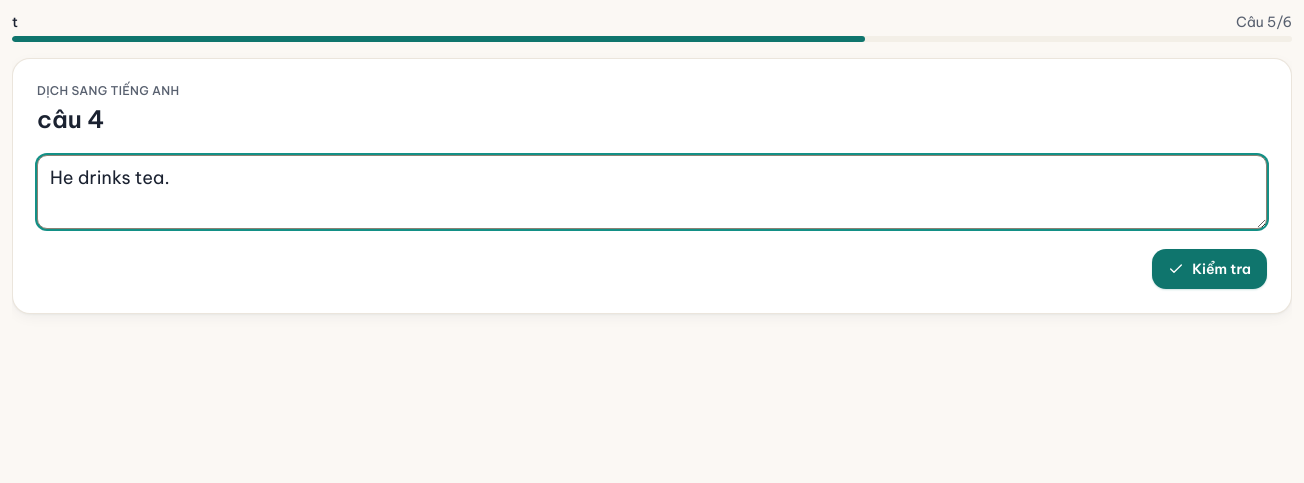
Test case: WriteRunner — redo only the wrong sentences › at ≥ 50 % passes without redoing, but a passive sentence still wrong comes back
Earlier steps of the test are not shown.
Later steps or results of the test are not shown.
Click the button "Kiểm tra". click: (1210, 269)
box: [1152,249,1267,289]
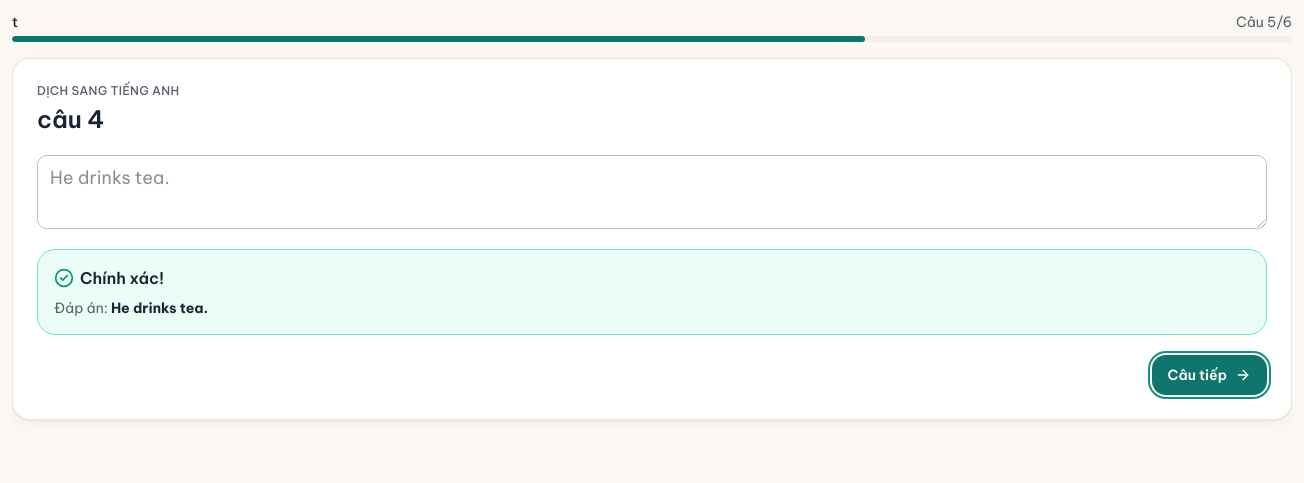
Click the button "Câu tiếp". click: (1209, 375)
box: [1152,355,1267,395]
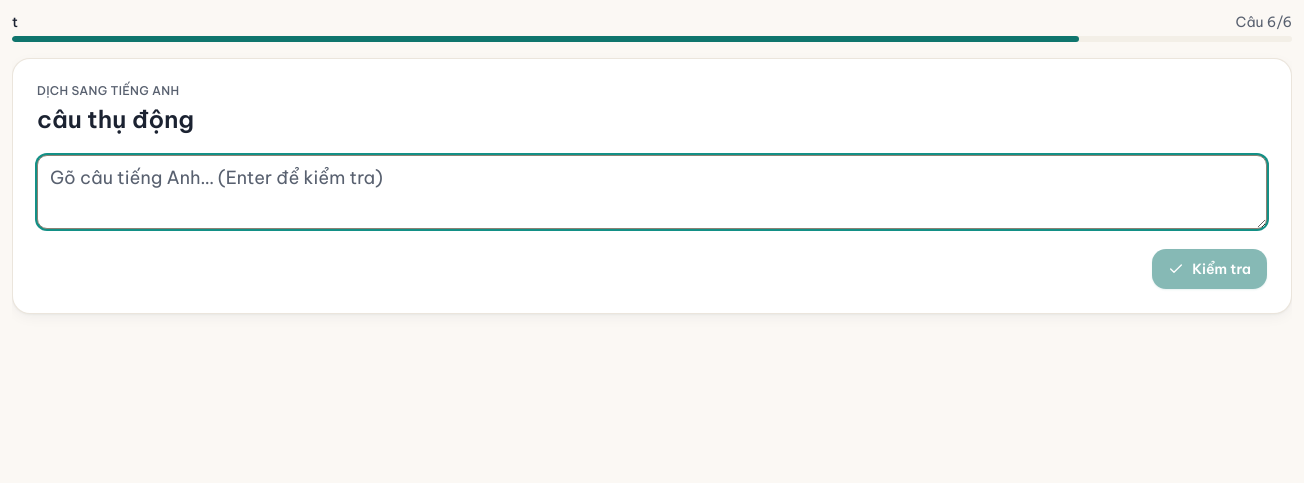
Type "nope" into the text box named "Câu của bạn". click: (652, 192)
box: [37,155,1267,229]
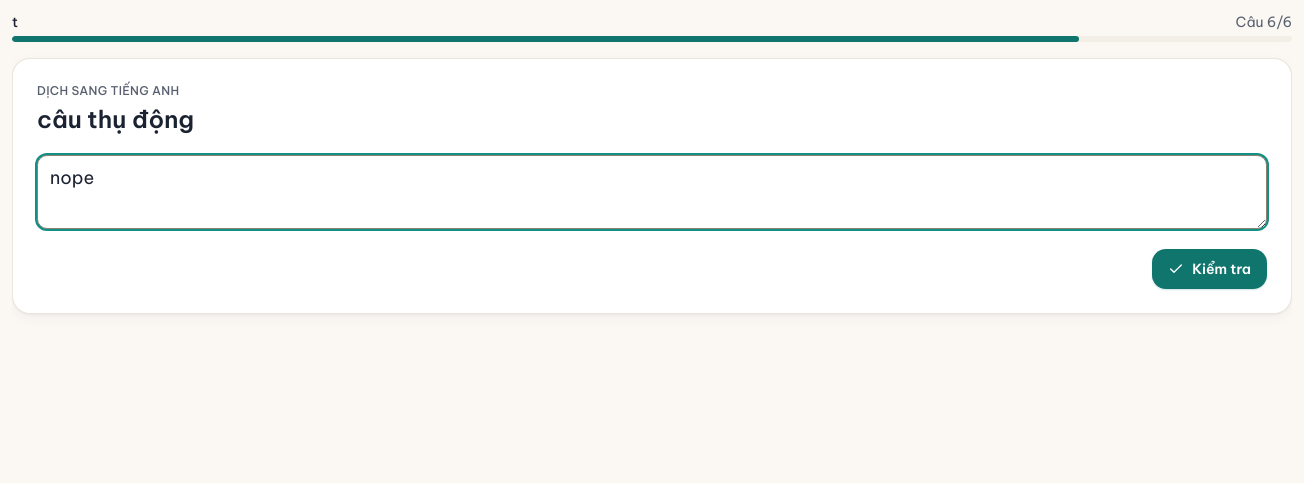
Click the button "Kiểm tra". click: (1210, 269)
box: [1152,249,1267,289]
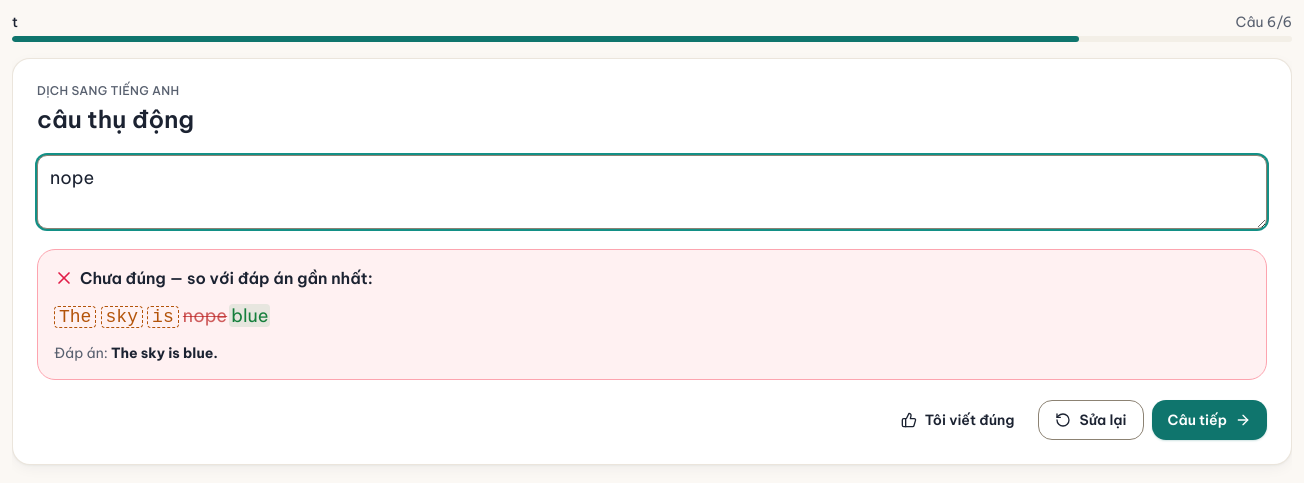
Click the button "Câu tiếp". click: (1209, 420)
box: [1152,400,1267,440]
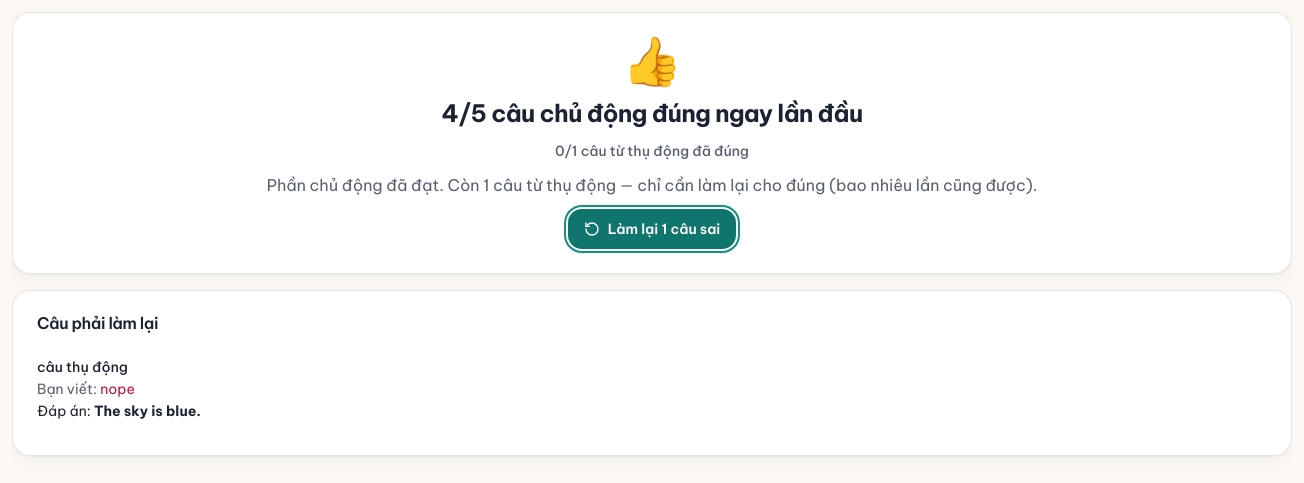
Click the button "Làm lại 1 câu sai". click: (652, 229)
box: [568,209,736,249]
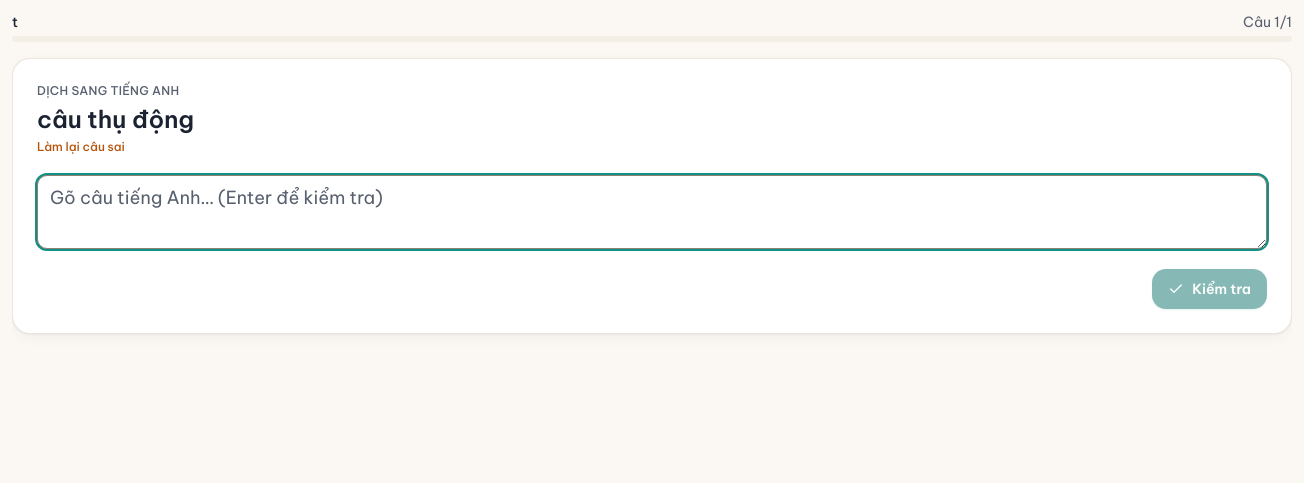
Check: the text with test id "prompt" reads "câu thụ động", box [37,104,194,134]
